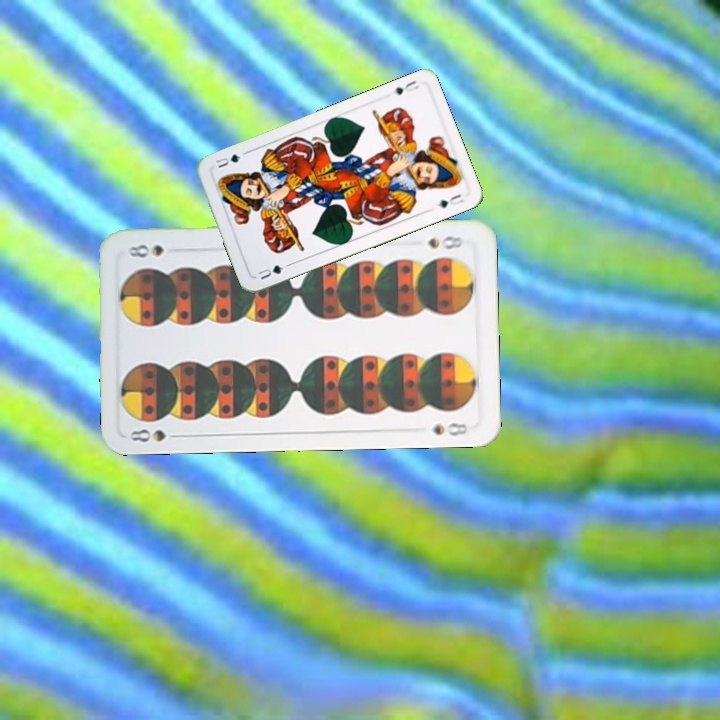GU: (254, 260, 292, 282), (390, 76, 421, 97)
S8: (126, 425, 185, 445), (424, 232, 466, 252)
